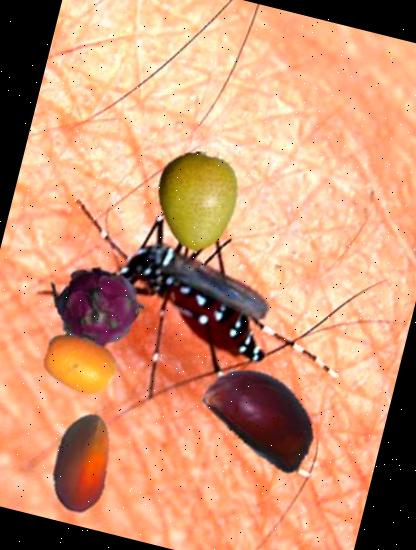Chestnut: (190, 340, 340, 490)
Hazelnut: (20, 400, 146, 526)
Kumquats: (35, 318, 126, 410)
Pear: (137, 140, 261, 264)
Pitahaya: (44, 254, 156, 366)
